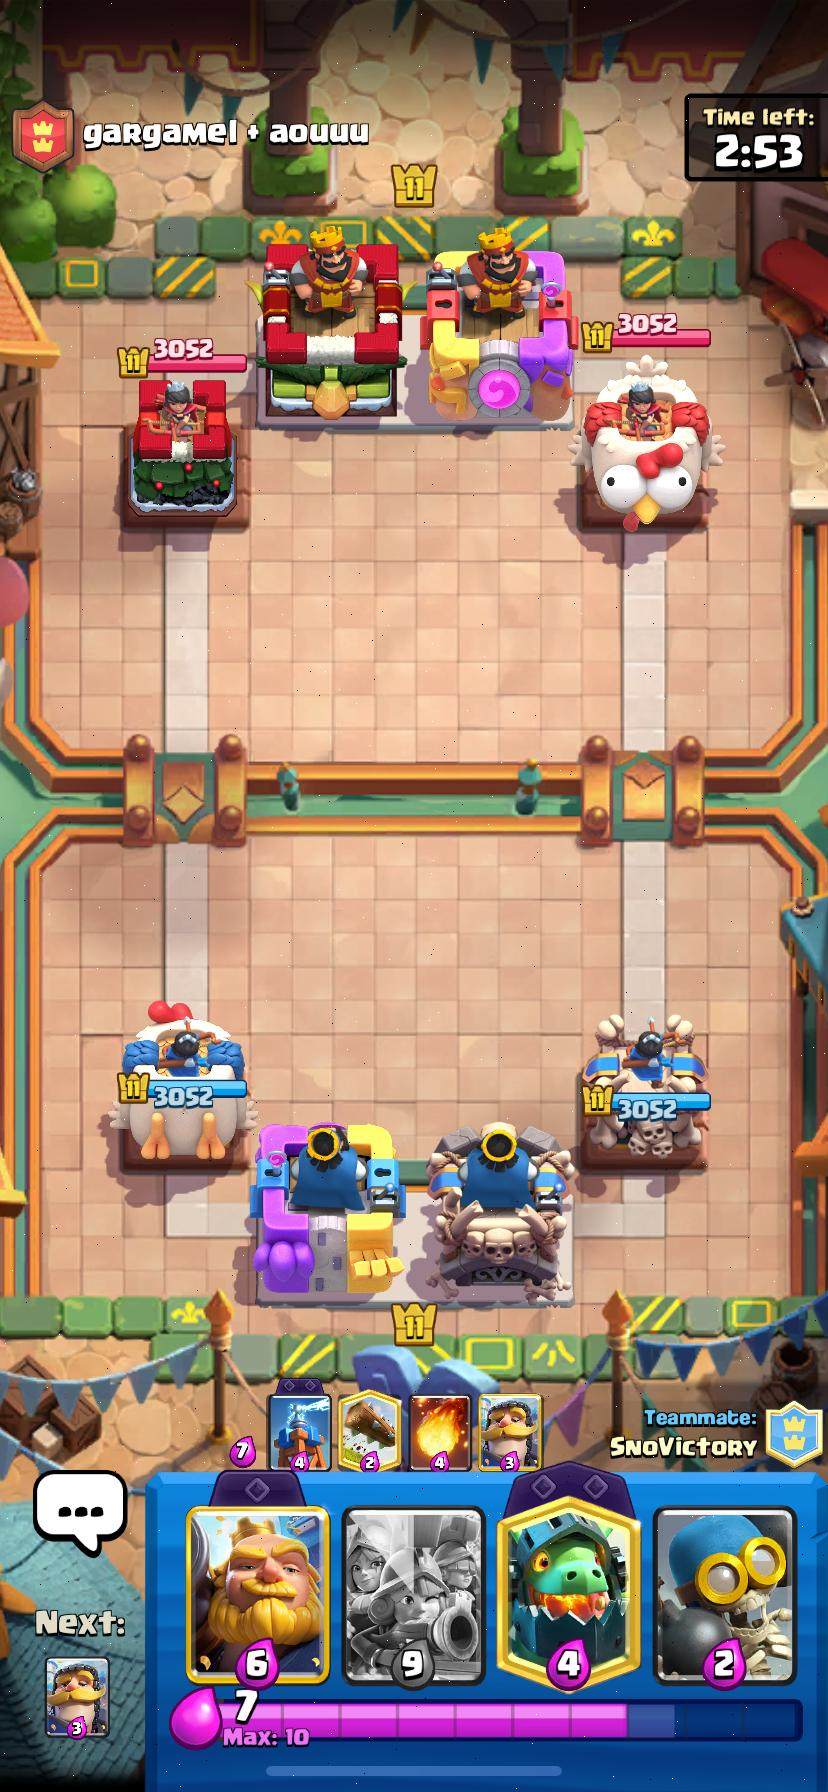EKingTower: (428, 227, 578, 419), (257, 227, 401, 418)
EnemyPrincessTower: (576, 360, 719, 523), (124, 379, 236, 523)
OwnKingTower: (253, 1123, 403, 1304), (428, 1123, 573, 1305)
OwnPrincessTower: (109, 1002, 255, 1160), (581, 1015, 710, 1163)
